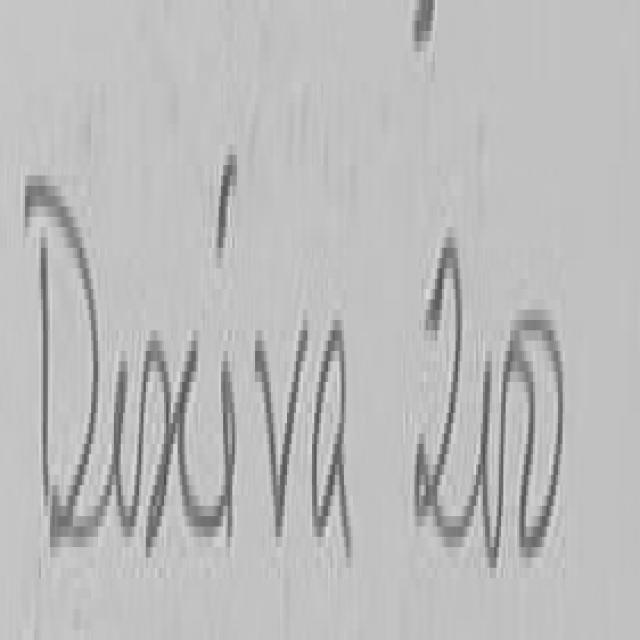0: (514, 310, 565, 565), (481, 336, 506, 568)
2: (412, 237, 483, 555)
D: (22, 174, 98, 542)
a: (312, 320, 353, 552)
i: (214, 361, 235, 551)
o: (114, 340, 143, 532)
v: (255, 330, 309, 562)
x: (144, 341, 217, 552), (221, 155, 236, 253)
